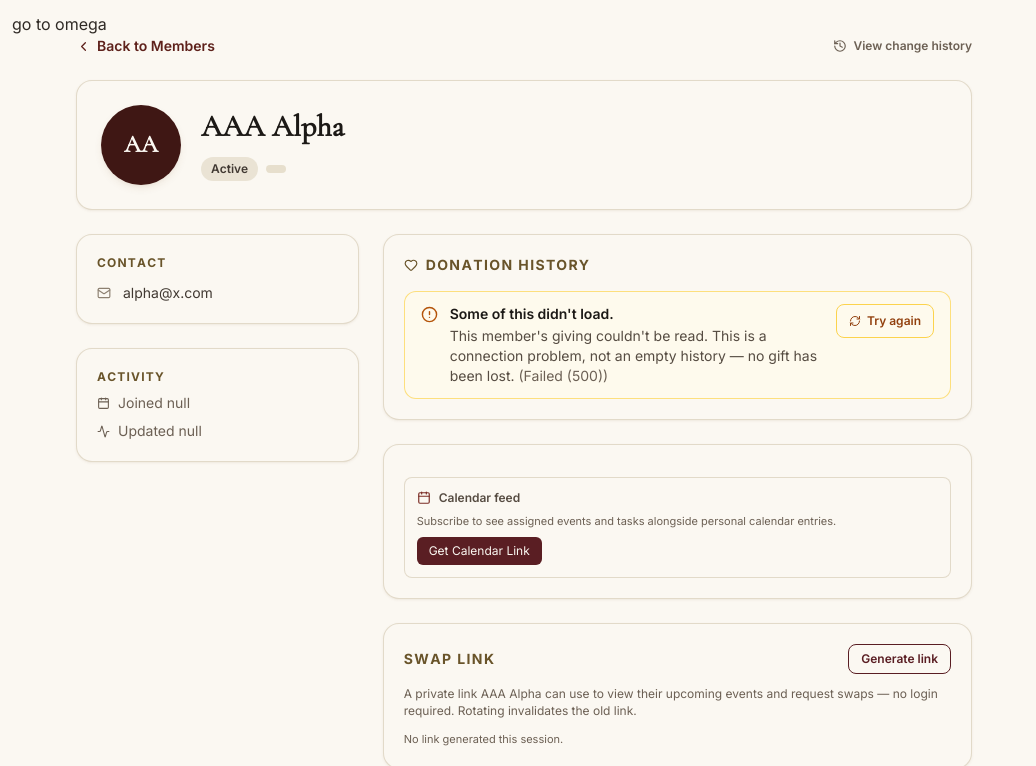
Test: a retry that resolves after the member changed › control: the same retry on the SAME member still fills the panel
Expected: the heading "AAA Alpha" is shown, [201, 108, 344, 145]
Click the button "Try again" at (885, 321), box [836, 304, 934, 338]
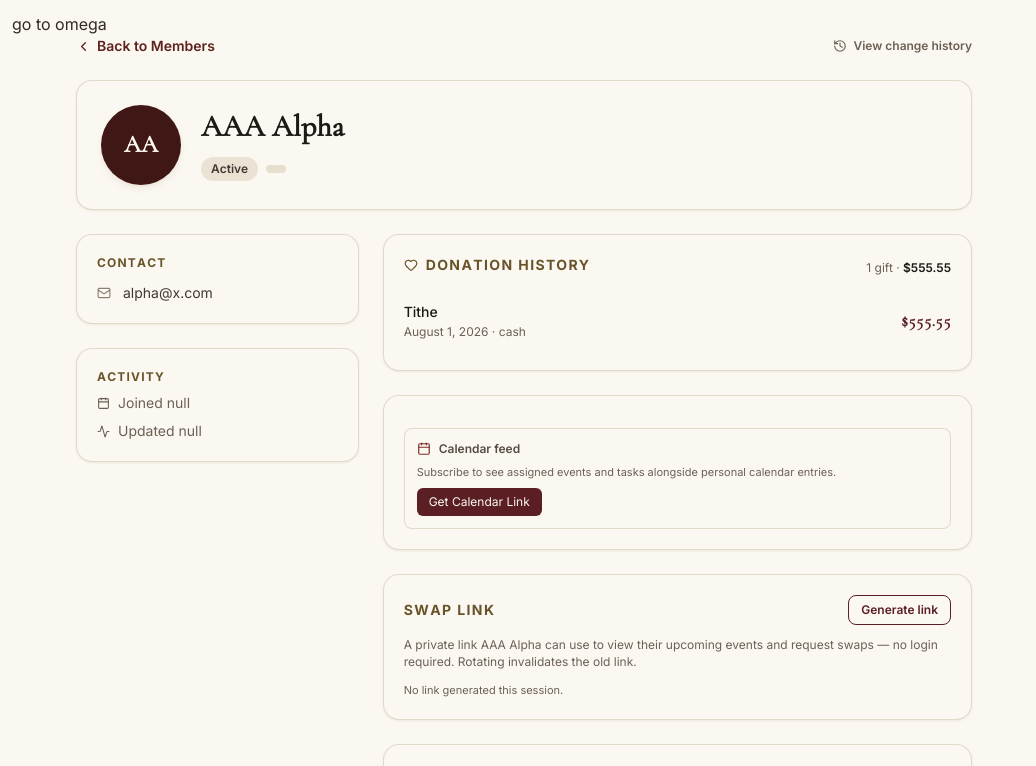
Expected: the text "$555.55" next to "gift" is shown, [903, 260, 951, 275]
